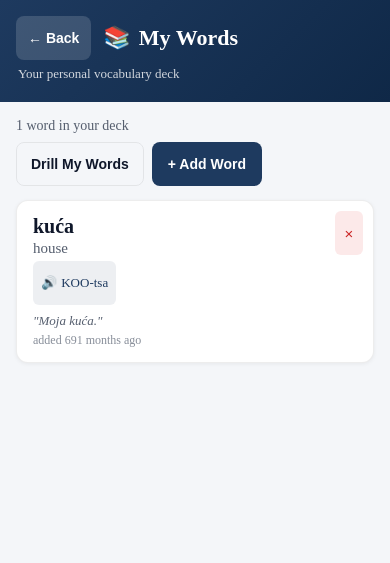
Test case: MyWordsScreen — list with words › "+ Add Word" navigates to add form
Click the button "+ Add Word". click: (207, 164)
box: x1=152 y1=142 x2=262 y2=186
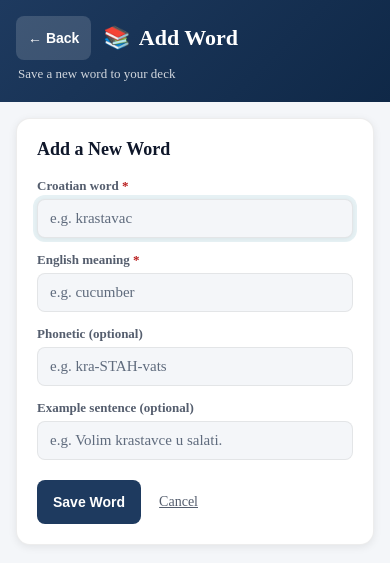
Result: the text "Add a New Word" is shown at x1=37 y1=139 x2=170 y2=159
